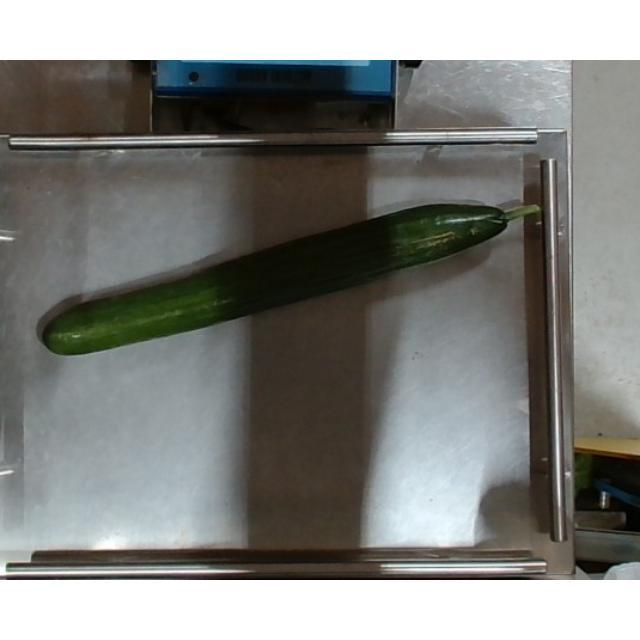cucumber: (43, 204, 541, 356)
